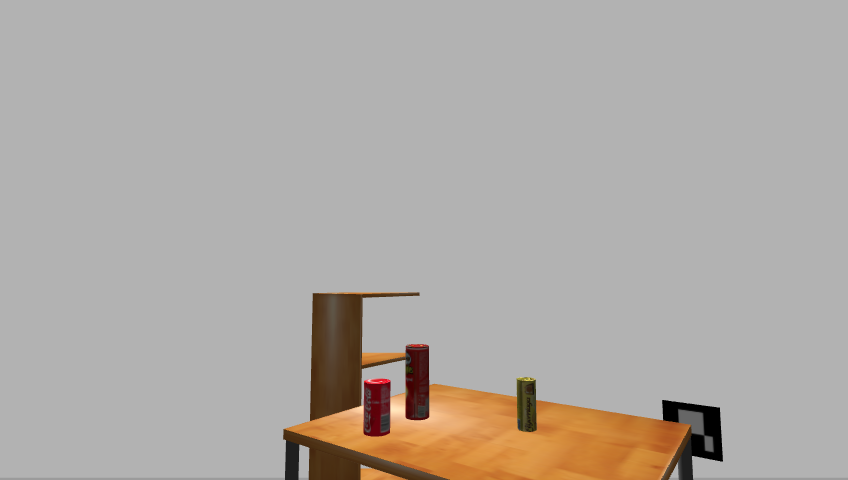aruco marker: (658, 398, 730, 465)
biscuits pack: (515, 377, 538, 433)
bookshelf: (301, 289, 424, 480)
coke can: (362, 379, 393, 437)
dinner table: (277, 383, 700, 480)
pringles can: (403, 344, 431, 422)
